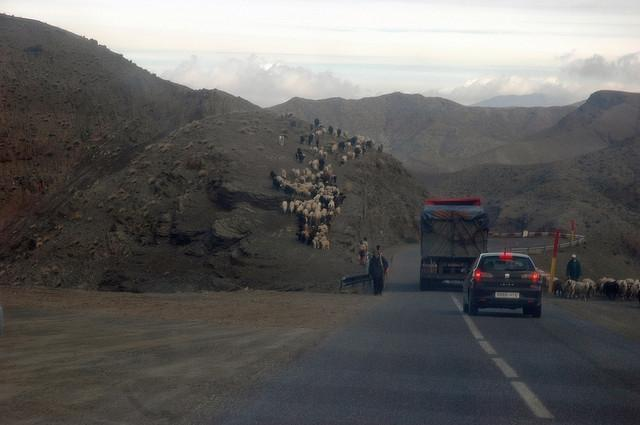car: (460, 252, 543, 318)
truck: (420, 196, 491, 292)
